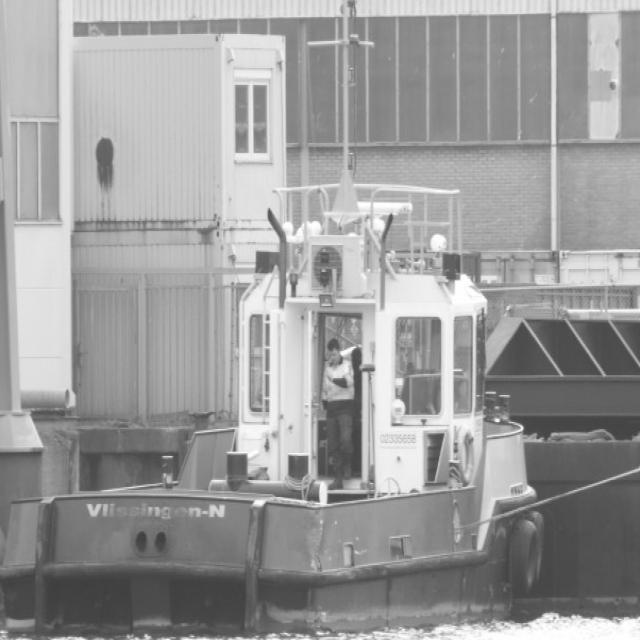tugboat: (1, 178, 550, 640)
